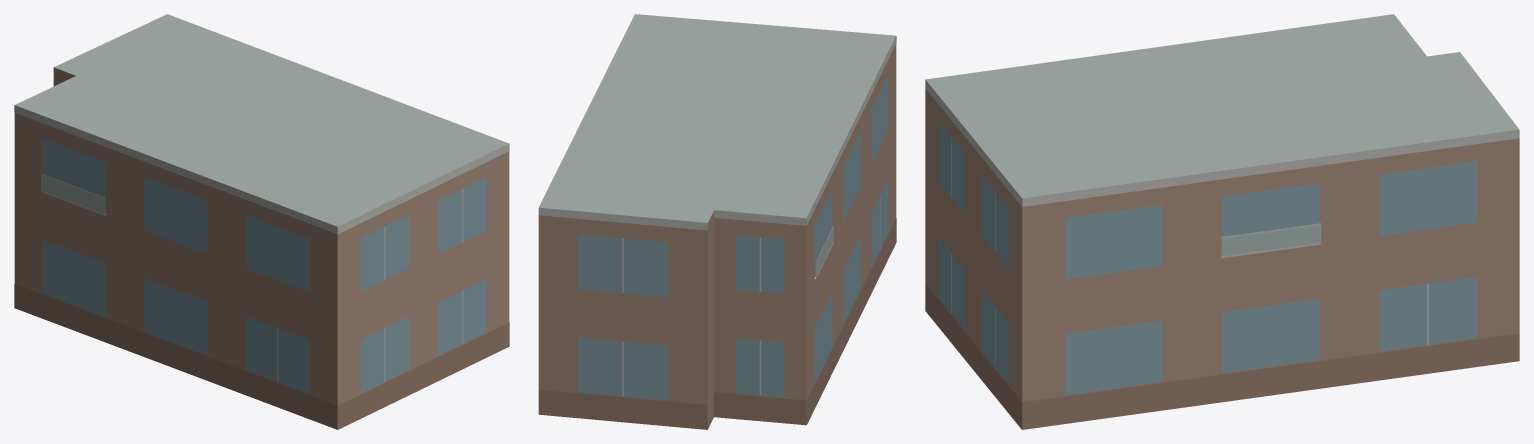
File: survey-upis-32943747.glb
The picture shows the model from 3 angles, left to right: view 1: azimuth 30°, elevation 25°; view 2: azimuth 150°, elevation 25°; view 3: azimuth 270°, elevation 25°; orthographic projection. The views are drawn at different scales.
Parts seen in each view (by area): view 1: survey-upis-32943747.tmp; view 2: survey-upis-32943747.tmp; view 3: survey-upis-32943747.tmp.
Boxes of the visible parts, x1,y1,x2,y2 form: survey-upis-32943747.tmp: [14, 14, 509, 429]; survey-upis-32943747.tmp: [538, 14, 896, 429]; survey-upis-32943747.tmp: [925, 14, 1519, 429].
Bounding box in the file's own units: 11.3 × 6.6 × 15.37.
